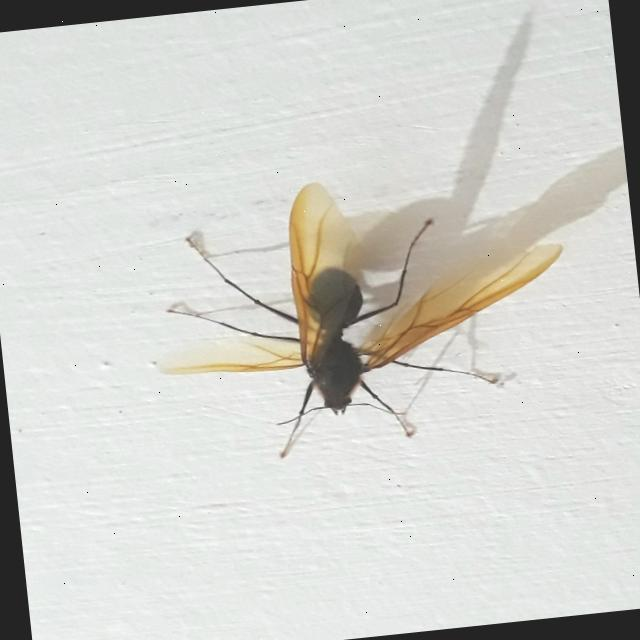Alive-Male-Alate: (138, 156, 583, 471)
